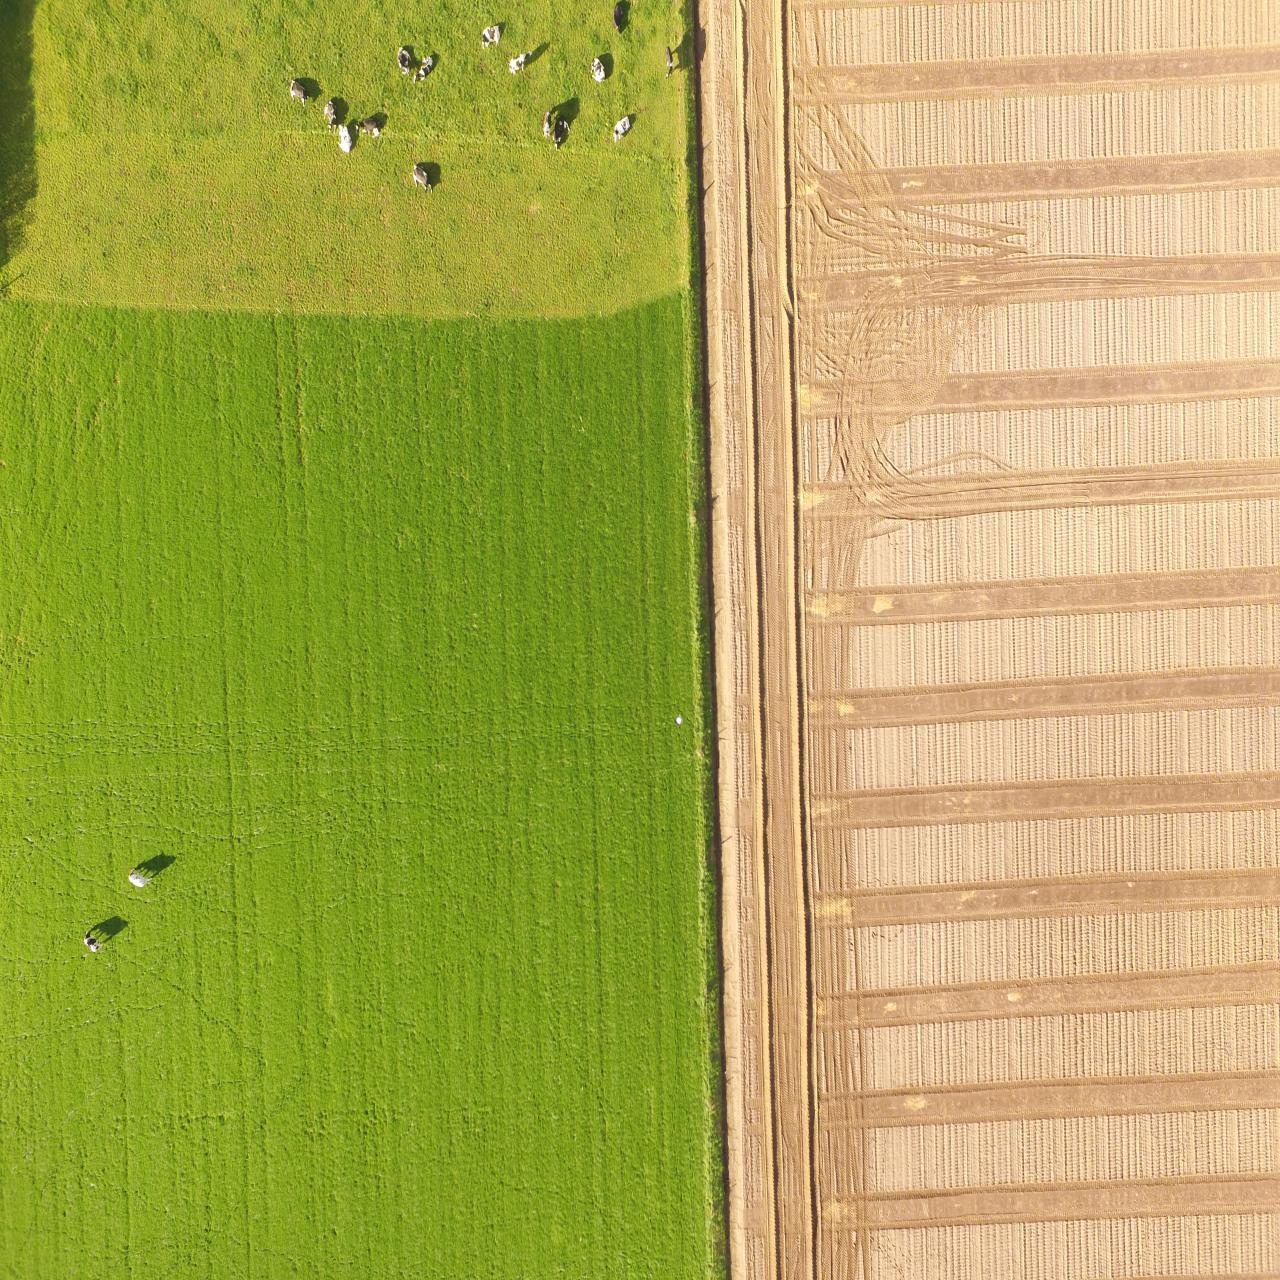cow: (282, 76, 309, 107), (409, 162, 434, 192), (506, 48, 532, 74), (396, 40, 413, 80), (352, 117, 382, 138), (553, 115, 571, 150), (478, 22, 502, 48), (411, 54, 434, 81), (335, 120, 353, 154), (82, 928, 104, 953), (613, 115, 631, 144), (588, 54, 606, 83), (129, 866, 151, 888), (322, 97, 335, 135), (663, 46, 674, 80), (611, 1, 622, 29), (542, 109, 551, 141)
